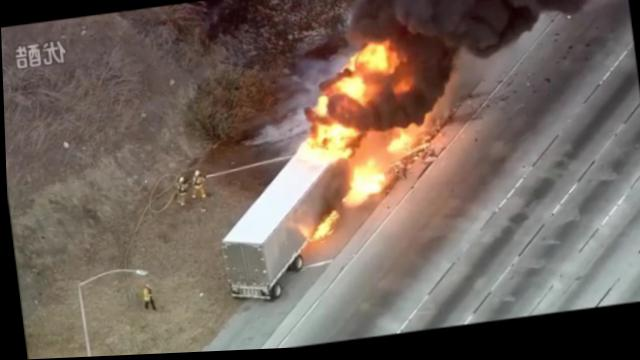fire: (342, 161, 389, 209), (349, 42, 396, 80), (315, 122, 360, 154), (330, 79, 371, 108), (313, 215, 337, 241), (385, 134, 413, 155)
